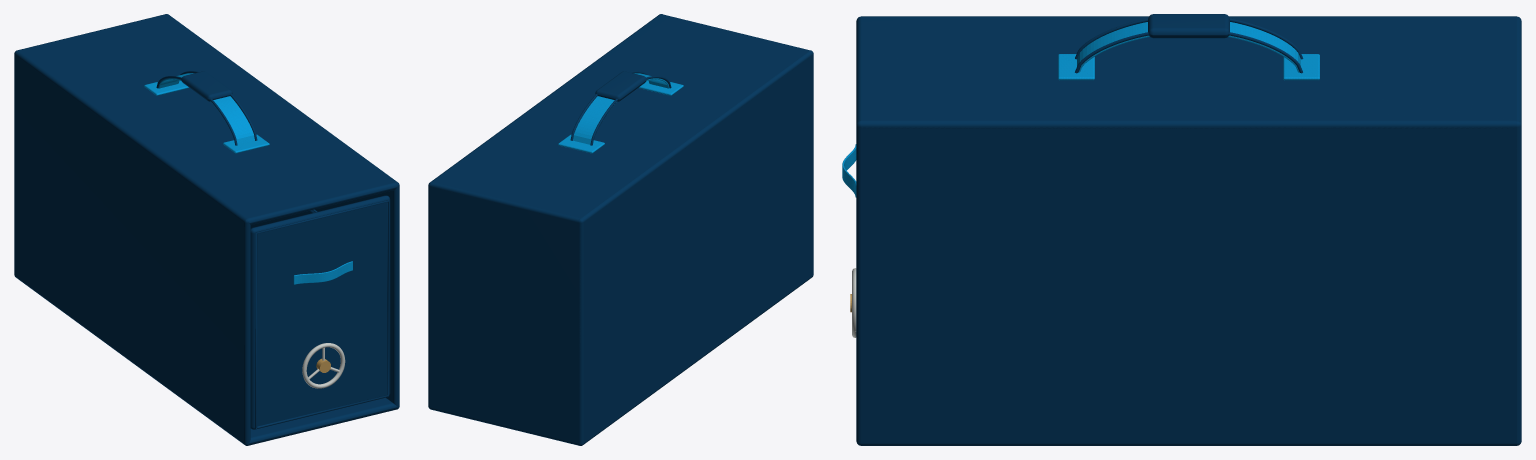
File: wave-storage.glb
The picture shows the model from 3 angles, left to right: view 1: azimuth 30°, elevation 25°; view 2: azimuth 150°, elevation 25°; view 3: azimuth 270°, elevation 25°; orthographic projection. The views are drawn at different scales.
Visible parts, largest first — view 1: Cabinet_side, Cabinet_top, Drawer_front, Cabinet_side.001, Cabinet_bottom, Front_sewn_edge, Carry_handle_webbing, Carry_handle_padded_grip, Handwheel_rim, Drawer_webbing_pull, Cabinet_back, Carry_handle_anchor; view 2: Cabinet_side, Cabinet_back, Cabinet_top, Carry_handle_webbing, Carry_handle_padded_grip, Cabinet_side.001, Carry_handle_anchor.001; view 3: Cabinet_side.001, Cabinet_top, Carry_handle_padded_grip, Cabinet_back, Carry_handle_webbing, Carry_handle_anchor, Carry_handle_anchor.001, Carry_handle_binding.001, Cabinet_bottom.
Boxes of the visible parts, bbox=[...] form: Cabinet_side: bbox=[15, 50, 250, 445]; Cabinet_top: bbox=[15, 14, 397, 224]; Drawer_front: bbox=[250, 195, 390, 429]; Cabinet_side.001: bbox=[166, 14, 399, 409]; Cabinet_bottom: bbox=[15, 275, 397, 445]; Front_sewn_edge: bbox=[255, 200, 389, 428]; Carry_handle_webbing: bbox=[158, 73, 254, 144]; Carry_handle_padded_grip: bbox=[181, 71, 232, 101]; Handwheel_rim: bbox=[302, 343, 345, 388]; Drawer_webbing_pull: bbox=[293, 261, 352, 284]; Cabinet_back: bbox=[14, 14, 166, 275]; Carry_handle_anchor: bbox=[223, 134, 269, 153]; Cabinet_side: bbox=[579, 50, 813, 445]; Cabinet_back: bbox=[428, 182, 583, 445]; Cabinet_top: bbox=[432, 14, 812, 218]; Carry_handle_webbing: bbox=[573, 73, 669, 144]; Carry_handle_padded_grip: bbox=[595, 71, 646, 101]; Cabinet_side.001: bbox=[428, 14, 661, 409]; Carry_handle_anchor.001: bbox=[558, 134, 604, 153]; Cabinet_side.001: bbox=[856, 120, 1521, 445]; Cabinet_top: bbox=[856, 17, 1516, 128]; Carry_handle_padded_grip: bbox=[1148, 14, 1229, 38]; Cabinet_back: bbox=[1516, 16, 1521, 445]; Carry_handle_webbing: bbox=[1077, 22, 1300, 72]; Carry_handle_anchor: bbox=[1058, 54, 1094, 80]; Carry_handle_anchor.001: bbox=[1283, 54, 1319, 80]; Carry_handle_binding.001: bbox=[1075, 32, 1302, 73]; Cabinet_bottom: bbox=[862, 442, 1515, 442].
Size of what is drawn, in the model's own units: 0.127 by 0.204 by 0.3372.
Materials: 5 (3 with a texture image).
